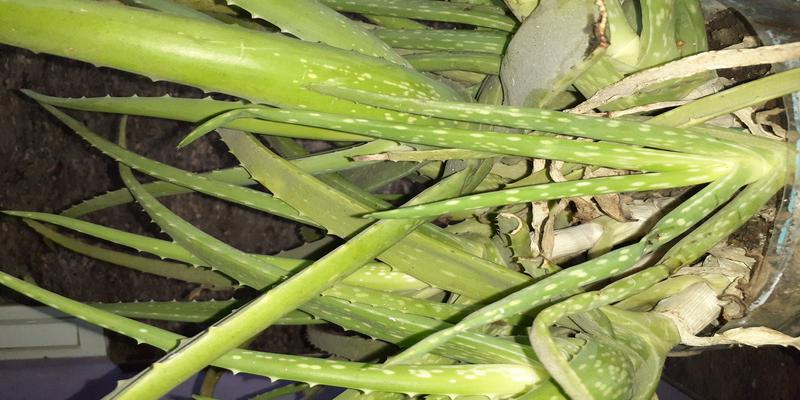Aloevera: (127, 2, 757, 372)
